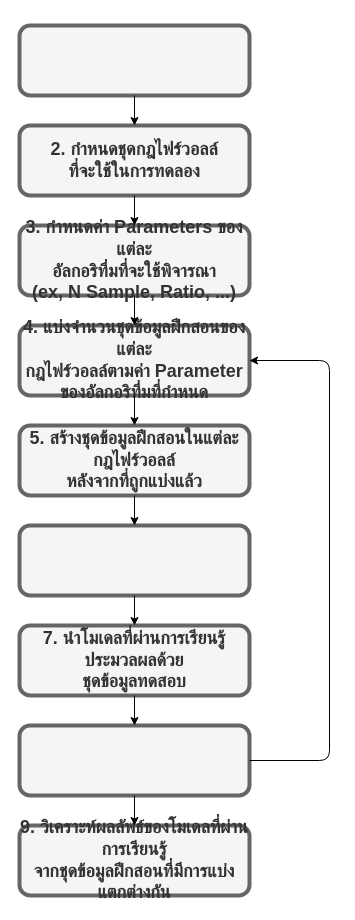
This 355x920 diagram has some shape labels left out. Here are the shapes that lost their labels. From the top down, the centre of each, then its label:
At (134,60): "1. กำหนดขอบเขตของ Packet Header และ Data Field ที่จะใช้พิจารณา".
At (134,560): "6. นำชุดข้อมูลไปฝึกอบรมโมเดลที่สร้างขึ้น".
At (134,760): "8. สรุปผลประสิทธิภาพของโมเดลด้วย ตารางและกราฟ".
